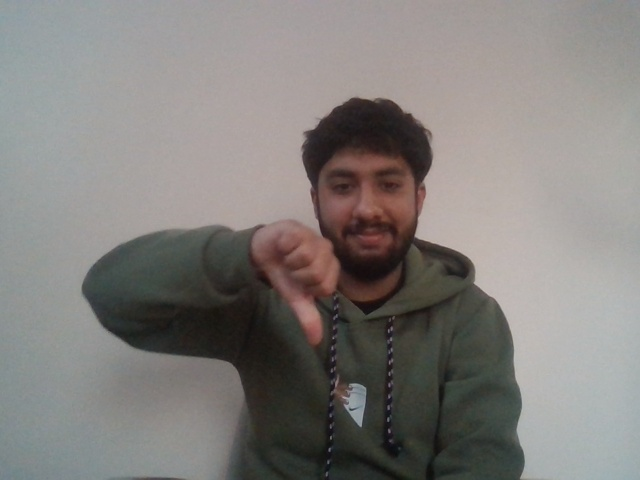No: (245, 207, 342, 347)
